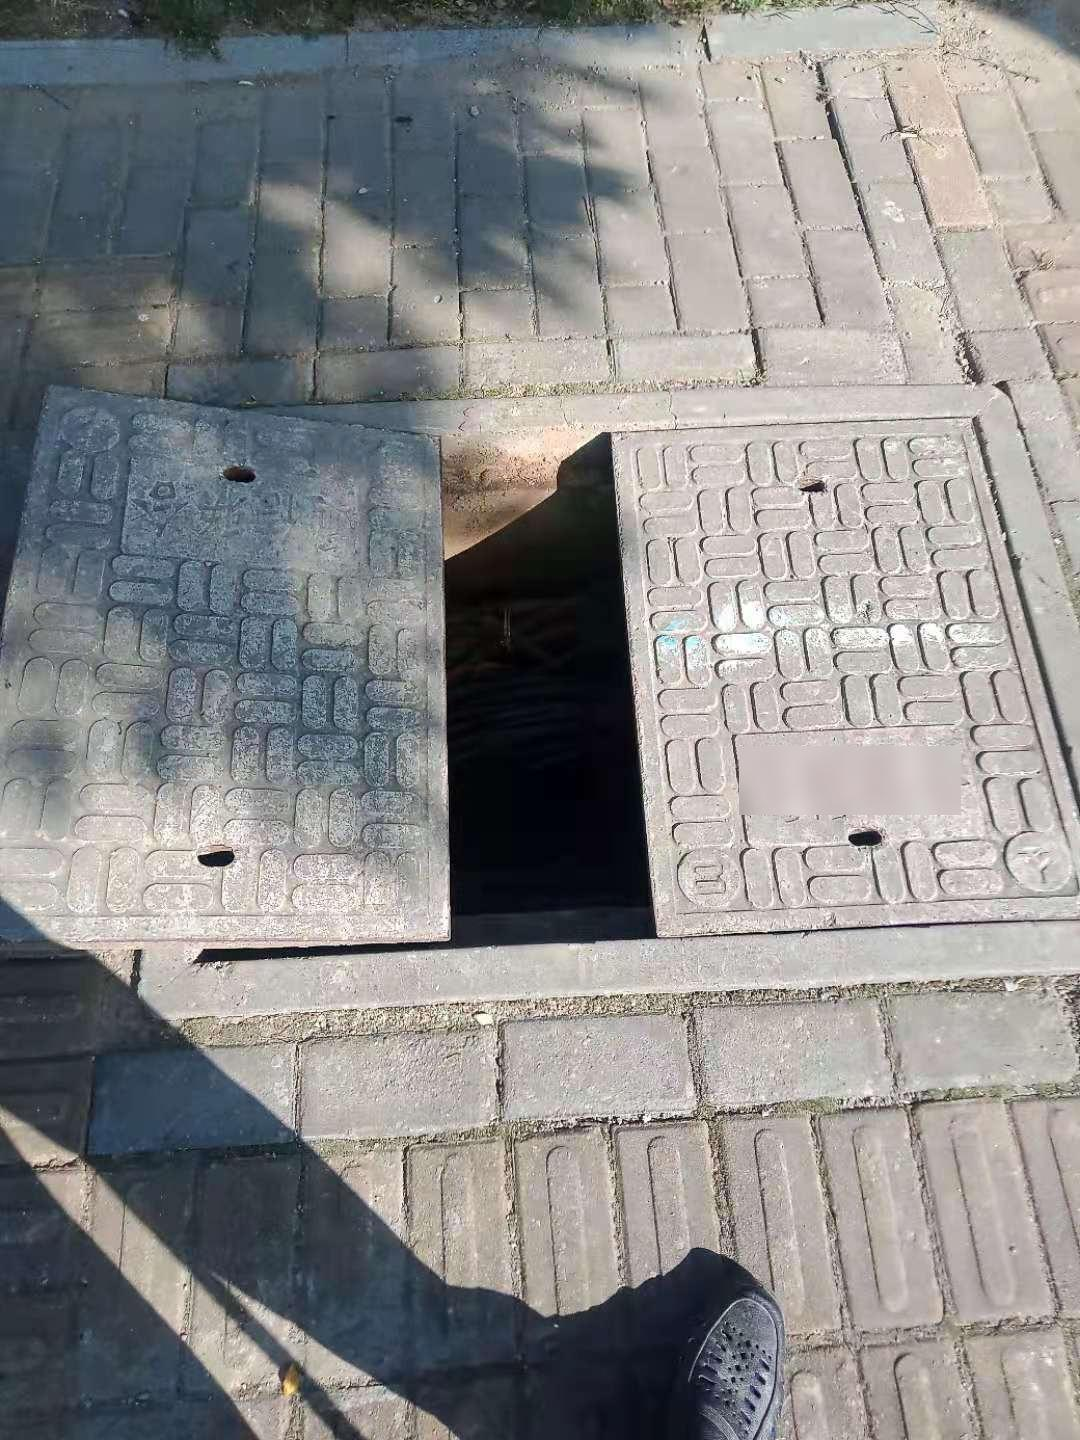wellcover: (0, 327, 1080, 1019)
